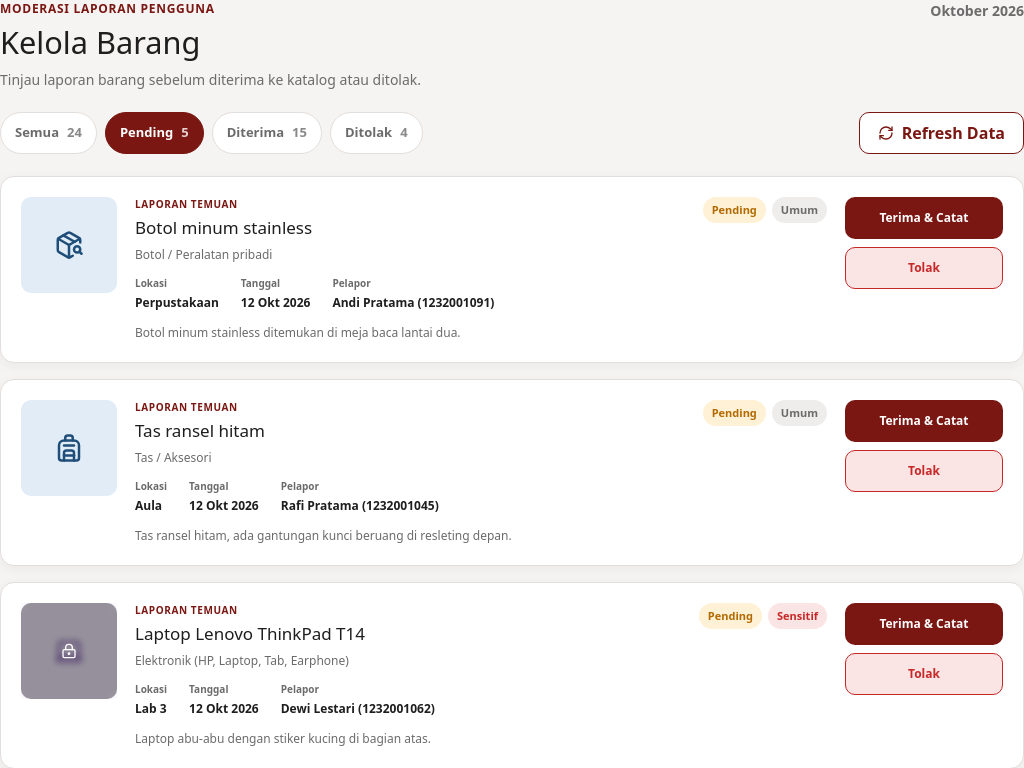
ManageItemsPage › opens rejection reason and reporter note fields and records rejection
This screenshot has width=1024, height=768.
Click the button "Tolak" in the row of "Tas / Aksesori". click: (924, 471)
box: [845,450,1003,492]
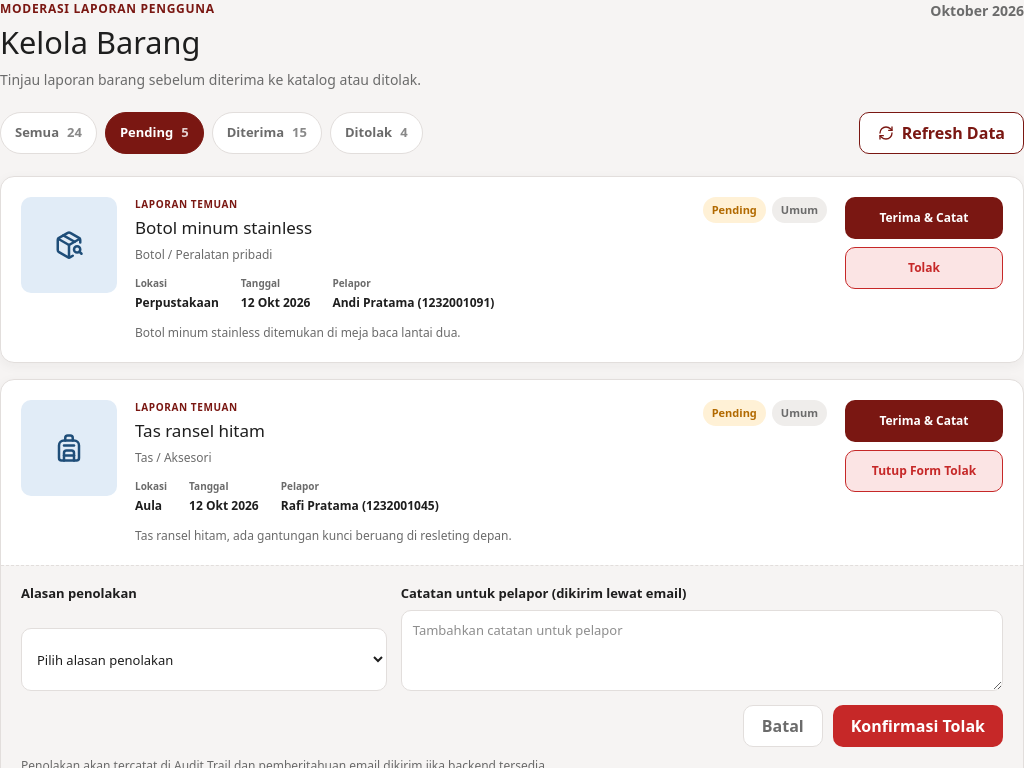
Select "Laporan iseng / tidak valid" in the dropdown labelled "Alasan penolakan". click: (204, 660)
box: [21,628,387,691]
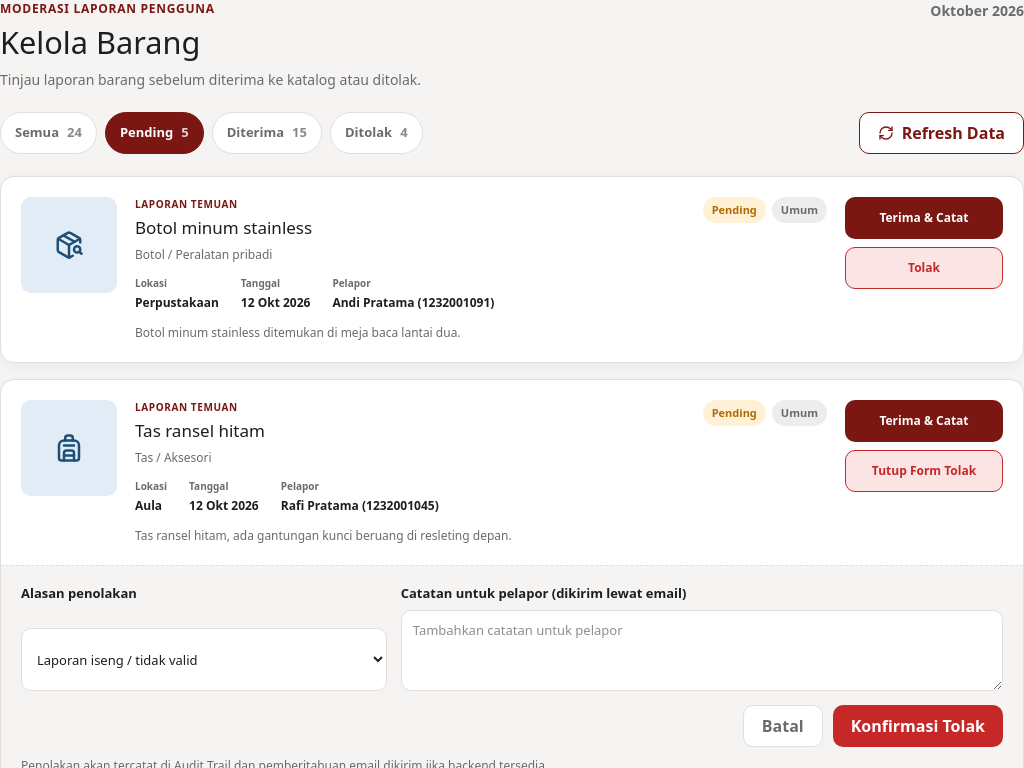
Type "Barang tidak ditemukan saat dicek di Pos Satpam." into the text box labelled "Catatan untuk pelapor (dikirim lewat email)". click: (702, 650)
box: [401,610,1003,691]
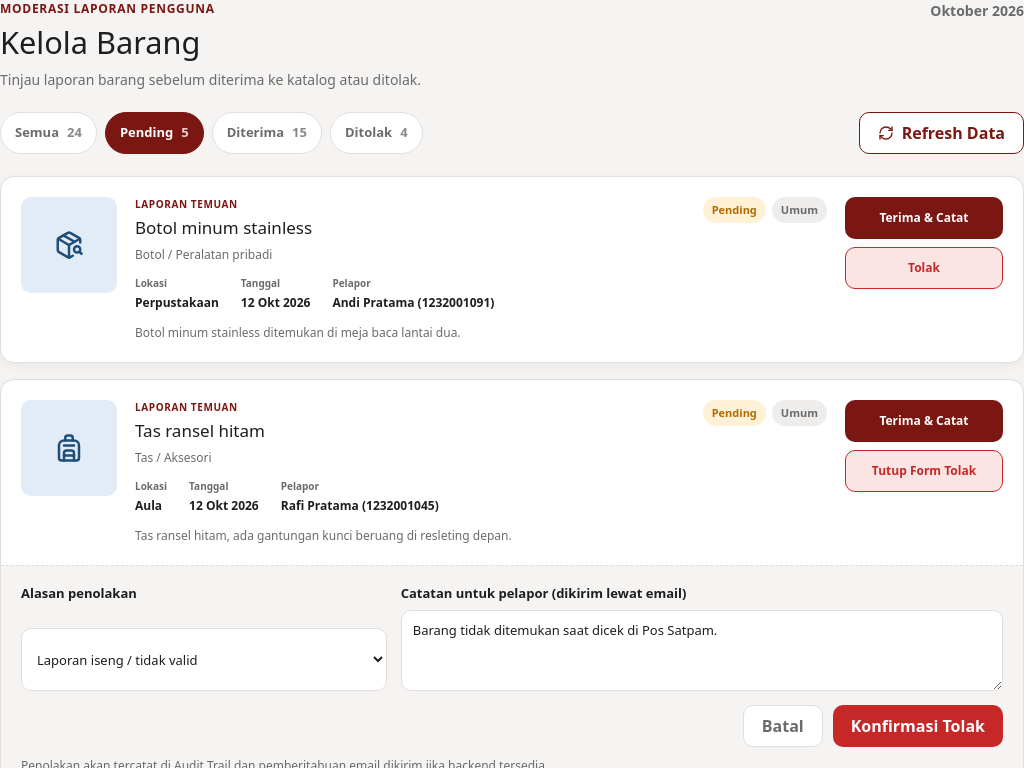
Click the button "Konfirmasi Tolak". click: (918, 726)
box: [833,705,1003,747]
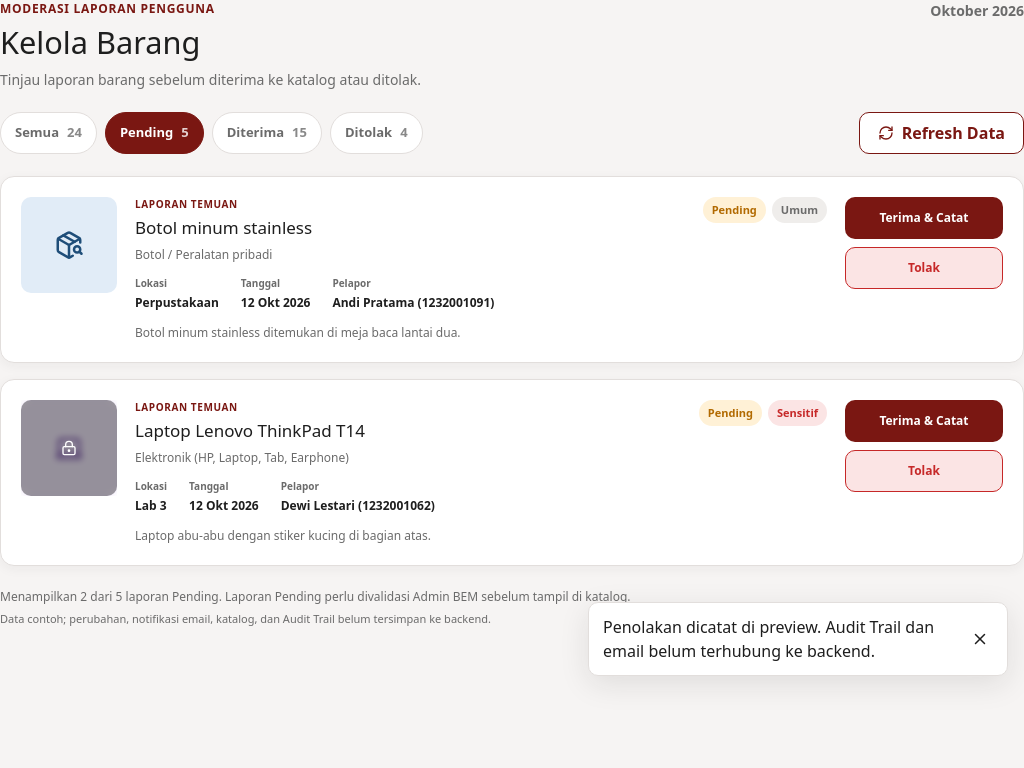
Expected: the heading "Tas ransel hitam" is gone
Click the tab "Ditolak 4". click: (376, 133)
box: [330,112,423,154]
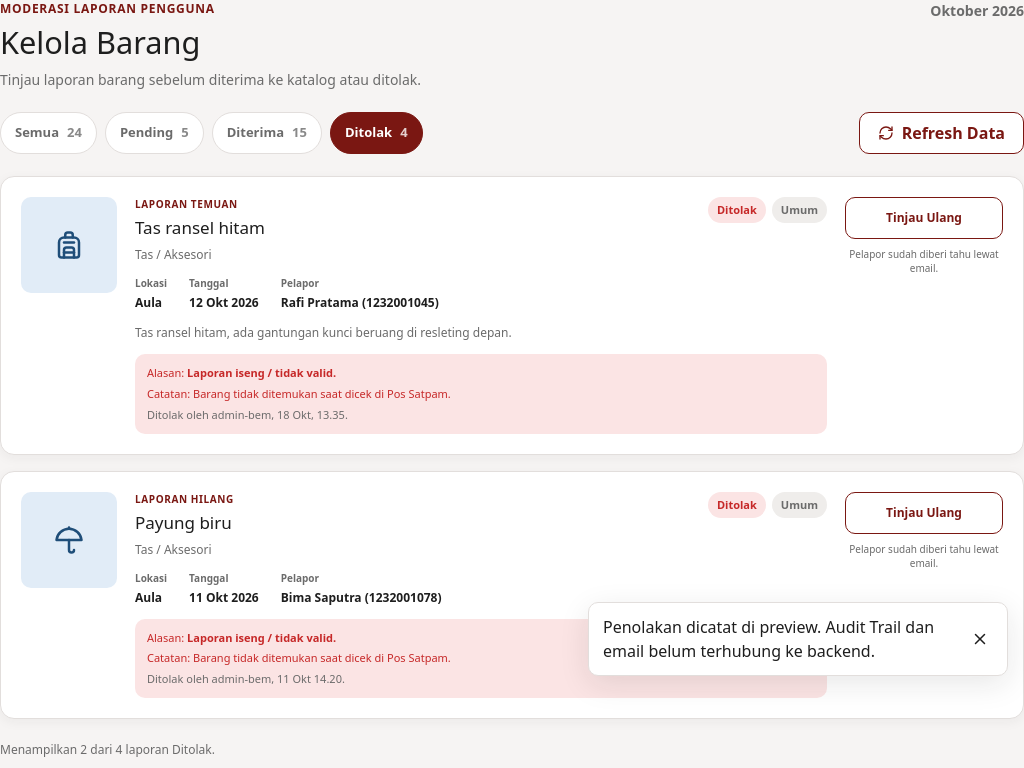
Expected: the text "Audit Trail dan email belum terhubung ke backend" is shown, [603,616,934,662]
Expected: the text "Catatan: Barang tidak ditemukan saat dicek di Pos Satpam." below "12 Okt 2026" is shown, [147,386,451,401]
